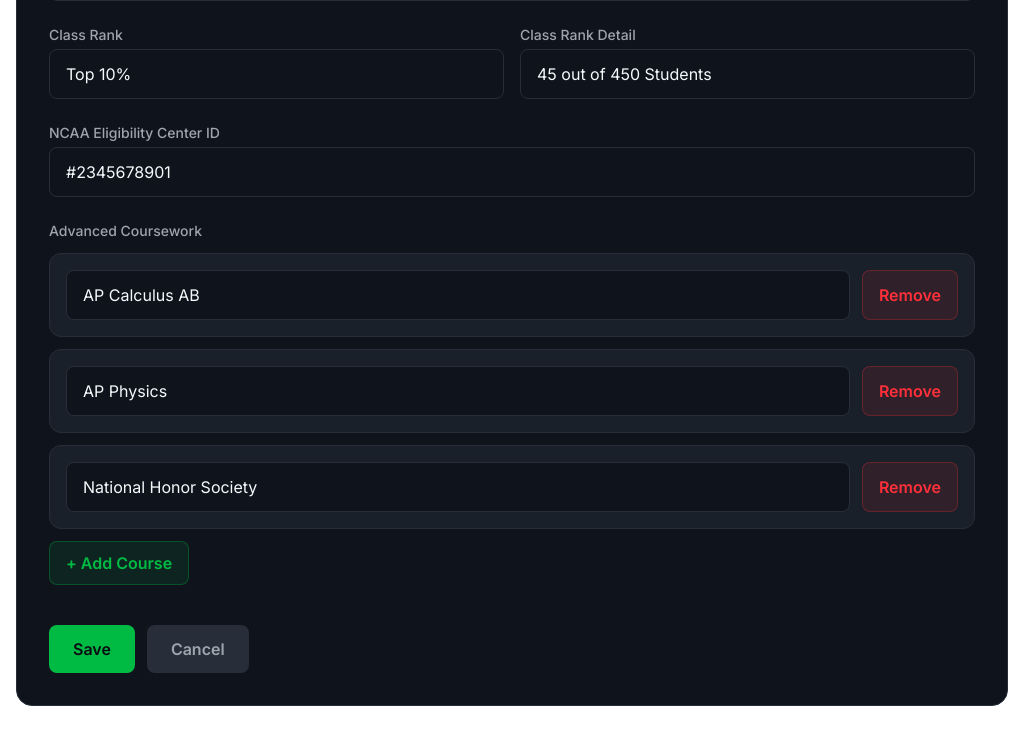
Scenario: AcademicProfileSection - Inline Editing › Exiting edit mode - Save (Requirements 1.5) › shows loading state on save button during save
(page scrolled)
Step 1. Click the button "Save" → (92, 649), box [49,625,135,673]
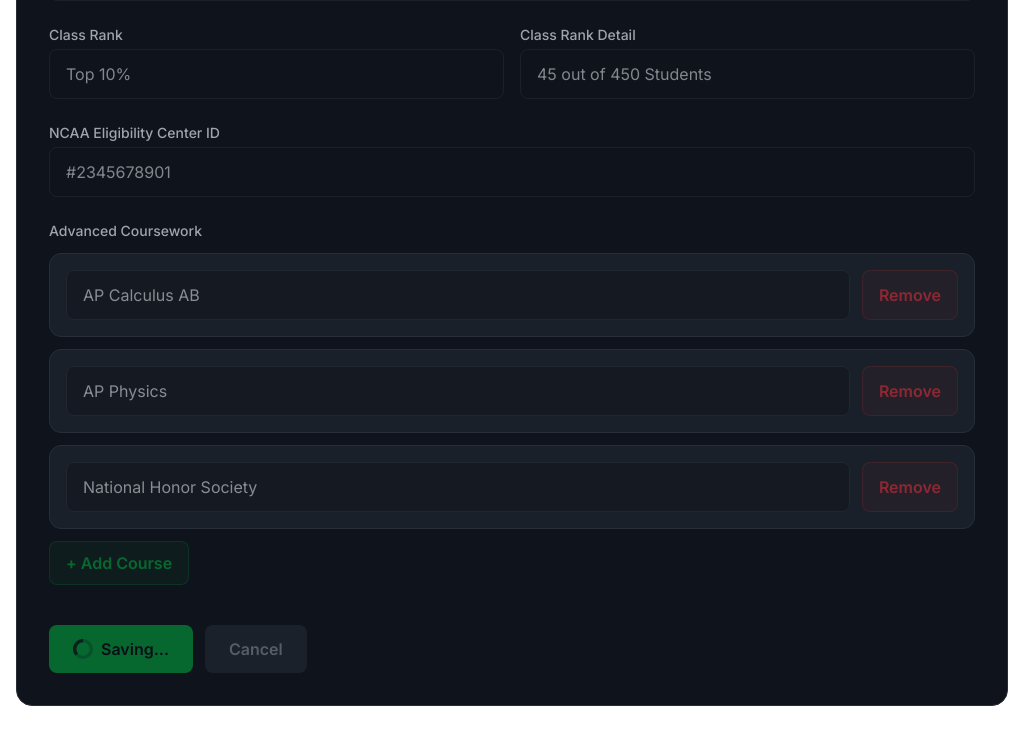
Expected: the button named "save" shows "Saving", [49,625,193,673]
